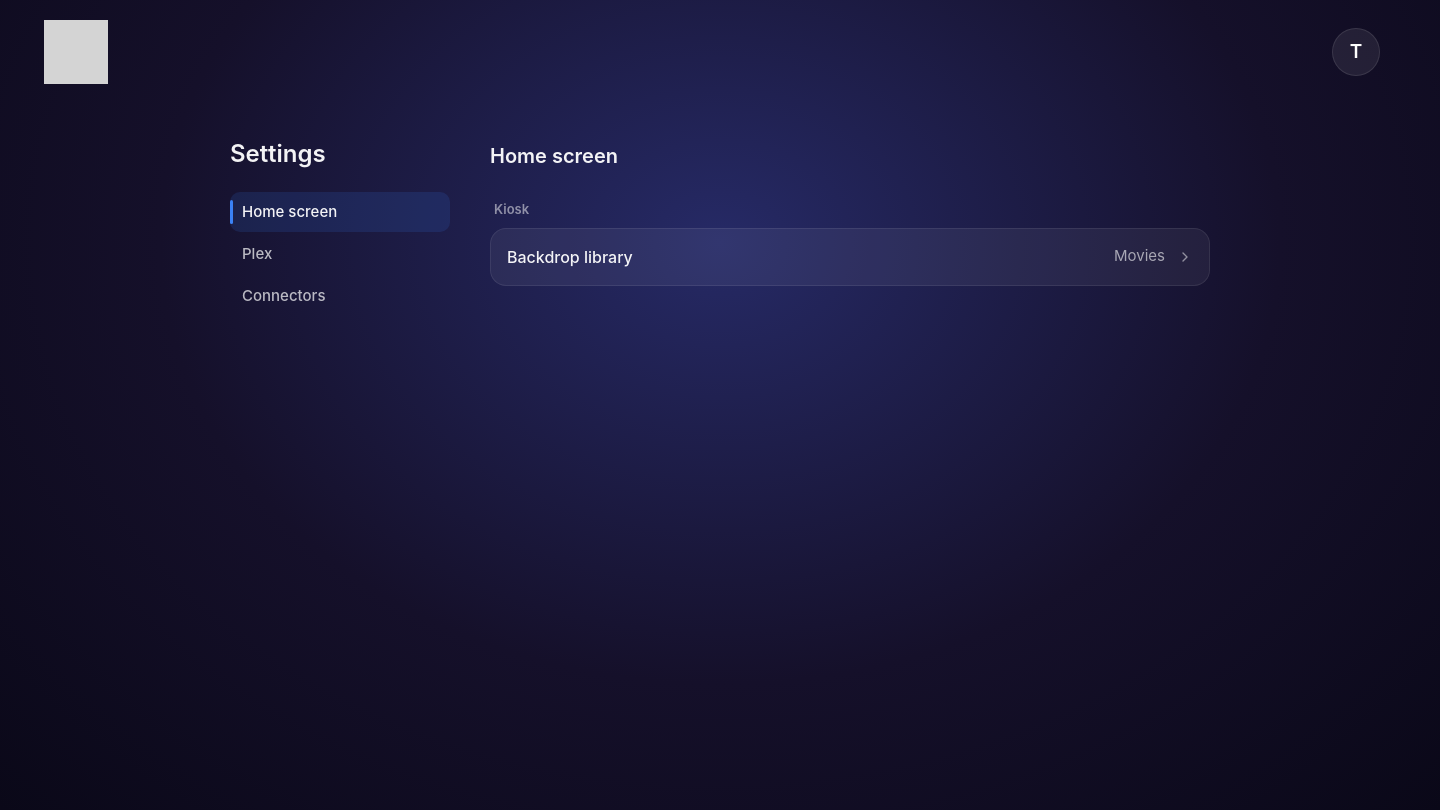
Test: Settings › web: Kiosk > Backdrop library opens a list with a check on the selected one
This screenshot has width=1440, height=810.
Expected: the text with test id "backdrop-value" reads "Movies", [1114,246,1165,265]
Click the button "Backdrop library Movies".
click(570, 256)  # box [491,228,1209,284]
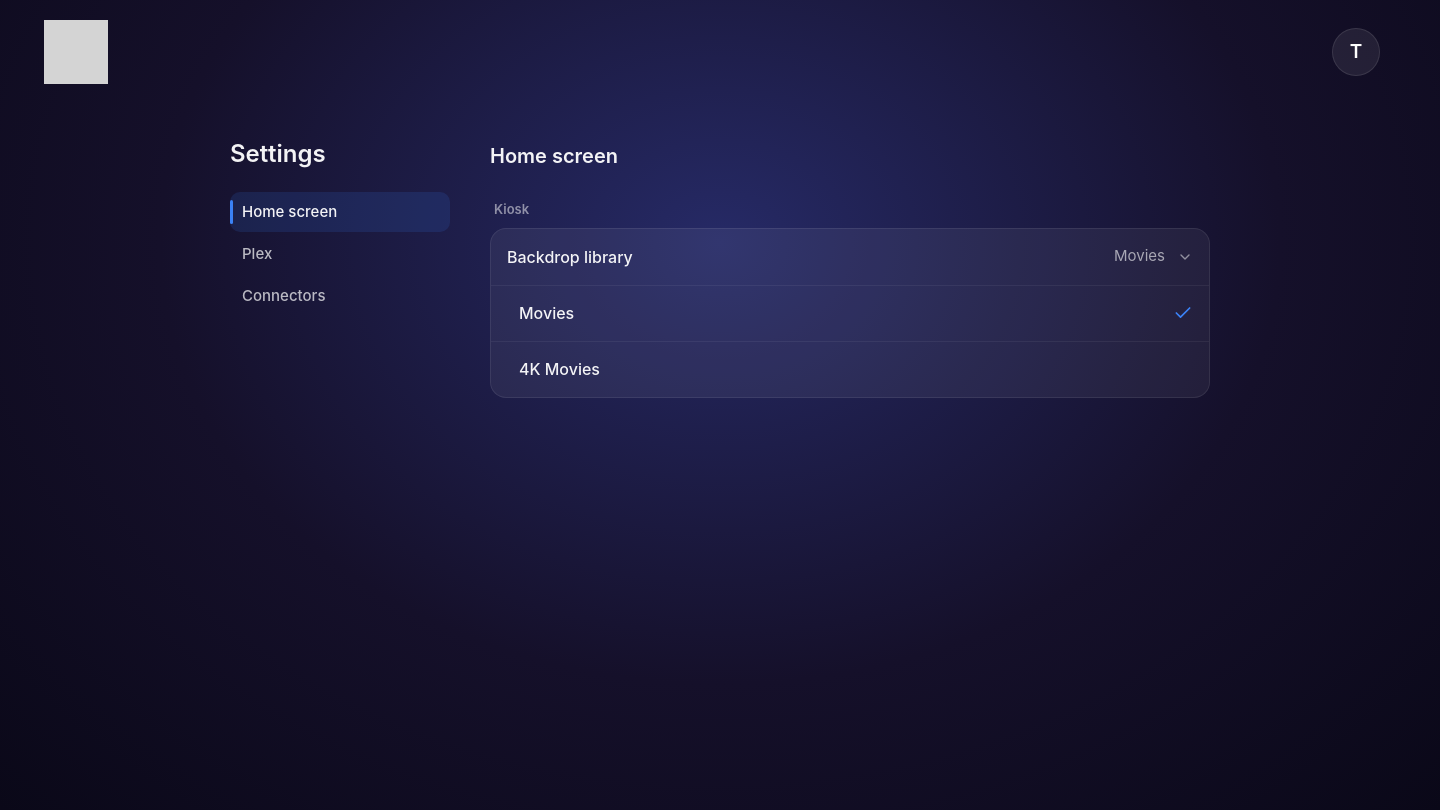
Click the radio button labelled "4K Movies".
click(559, 369)  # box [491,340,1209,396]
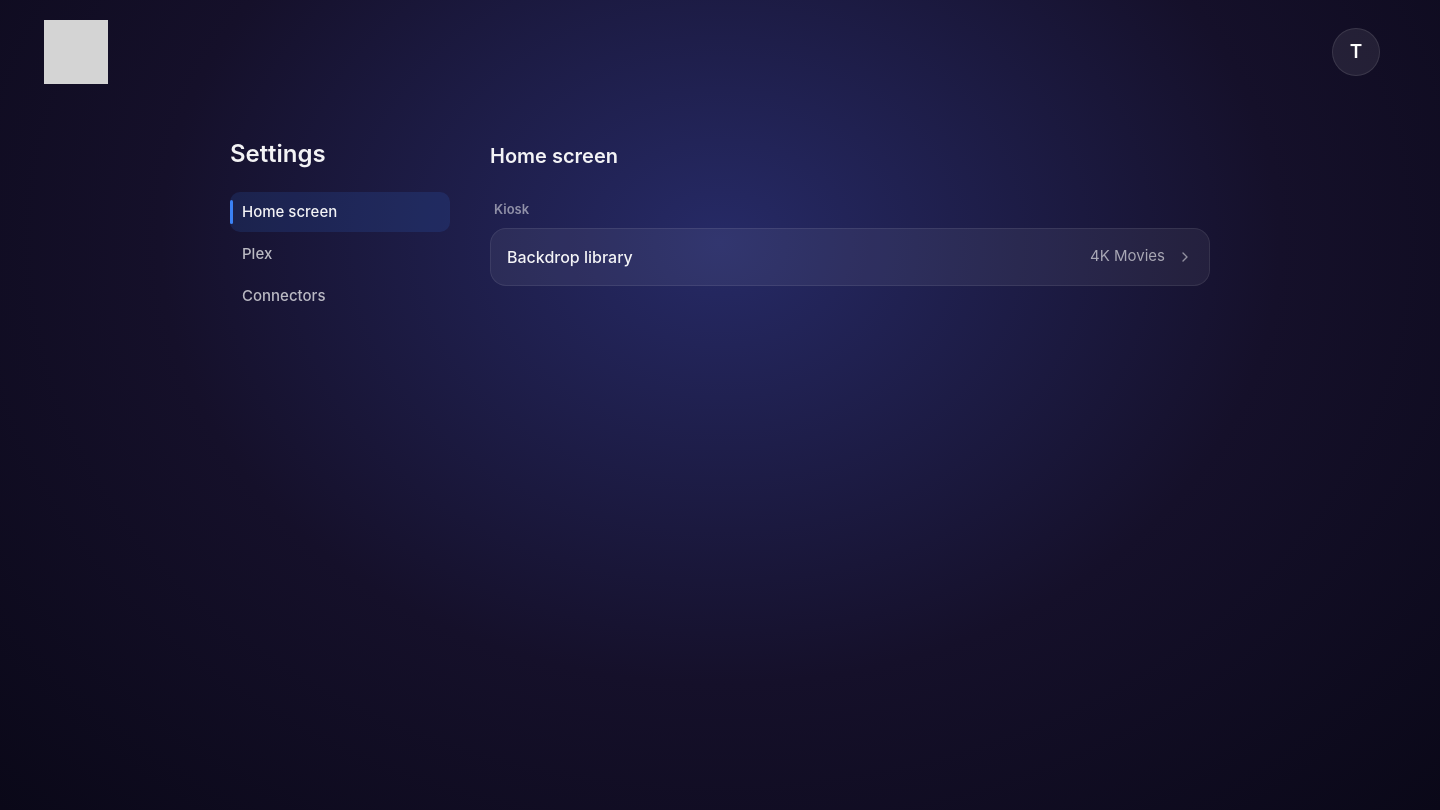
Now the text with test id "backdrop-value" reads "4K Movies", box [1090,246,1165,265]
